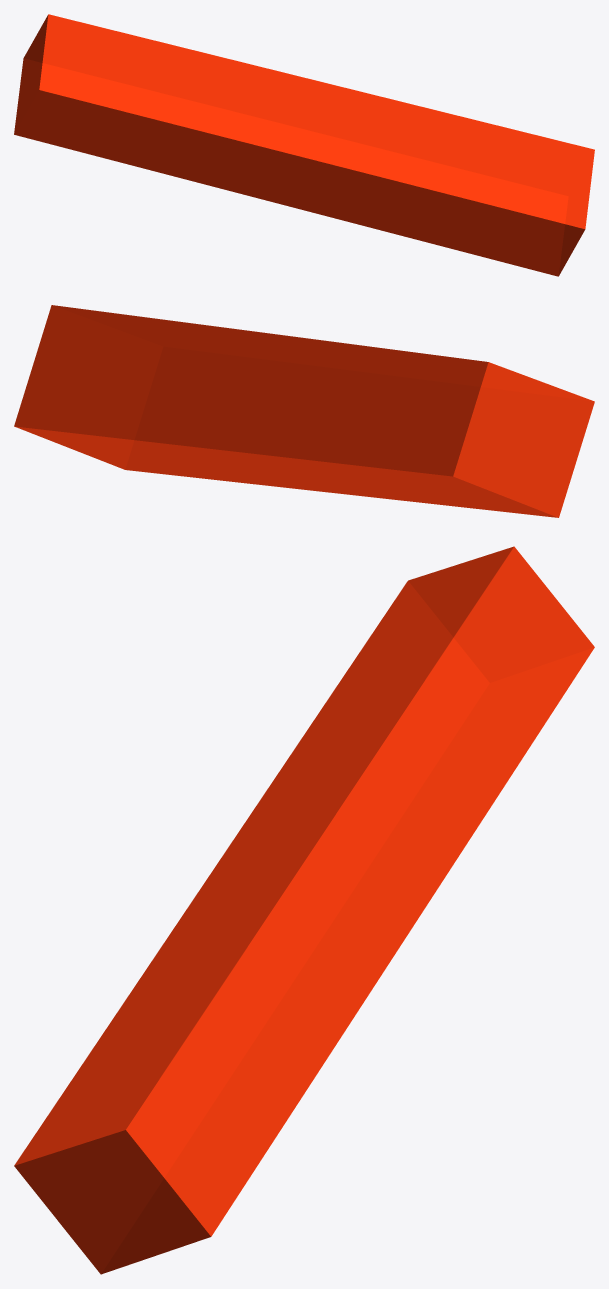
File: Event_421278790_EBrechit_8.fbx
The picture shows the model from 3 angles, top to bottom: view 1: azimuth 30°, elevation 25°; view 2: azimuth 150°, elevation 25°; view 3: azimuth 270°, elevation 25°; orthographic projection. The views are drawn at different scales.
Parts seen in each view (by area): view 1: Model; view 2: Model; view 3: Model.
Part boxes in pixels (left/top/right/bottom): Model: left=14, top=14, right=594, bottom=276; Model: left=14, top=305, right=594, bottom=517; Model: left=14, top=546, right=594, bottom=1274.
Size of the model in its own units: 0.353 by 0.189 by 0.2338.
